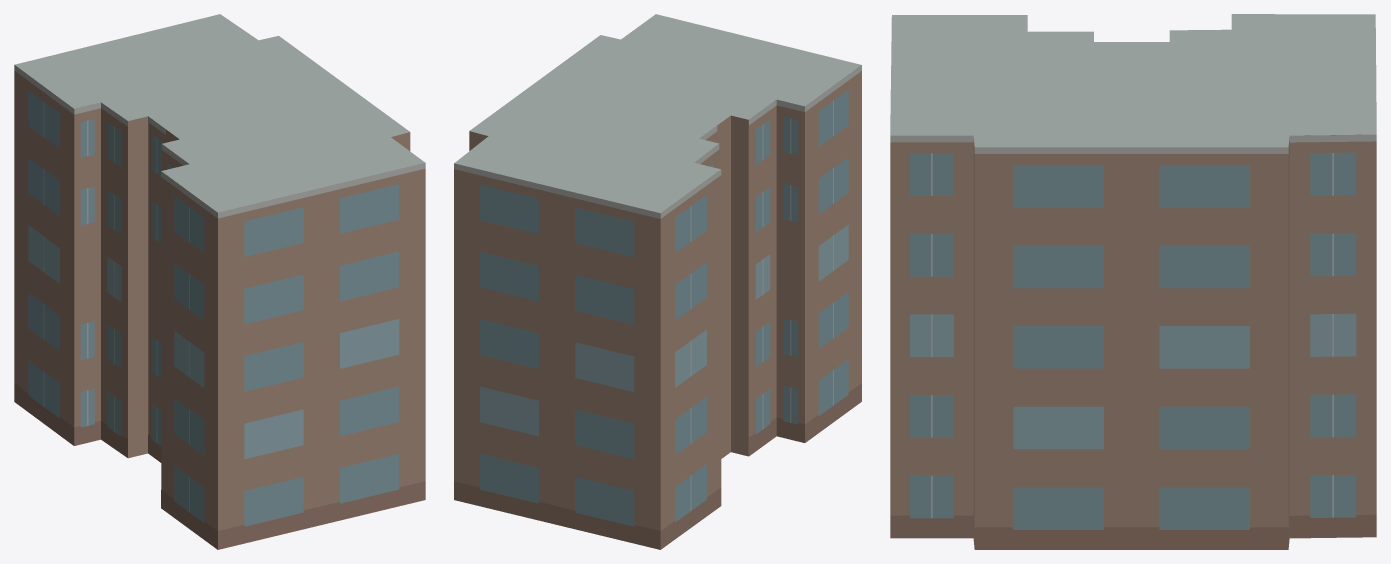
File: survey-upis-32512306.glb
3 renders of one model, left to right at view 1: azimuth 30°, elevation 25°; view 2: azimuth 150°, elevation 25°; view 3: azimuth 270°, elevation 25°, orthographic. The views are drawn at different scales.
Parts seen in each view (by area): view 1: survey-upis-32512306.tmp; view 2: survey-upis-32512306.tmp; view 3: survey-upis-32512306.tmp.
Part boxes in pixels (x1,y1,x2,y2): survey-upis-32512306.tmp: (14, 14, 425, 549); survey-upis-32512306.tmp: (454, 14, 861, 549); survey-upis-32512306.tmp: (890, 14, 1376, 549).
Size of the model in its own units: 10.08 by 14.2 by 15.56.
